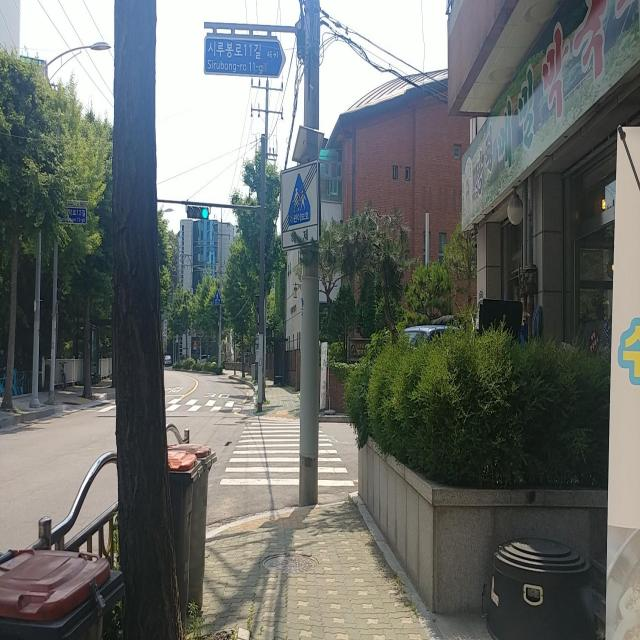횡단보도: (218, 419, 356, 488), (97, 395, 243, 414)
